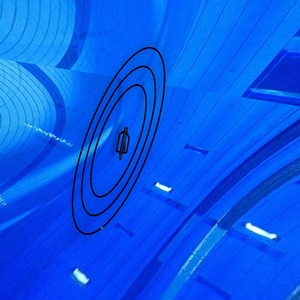circle: (70, 45, 170, 241)
submarine: (116, 124, 134, 164)
